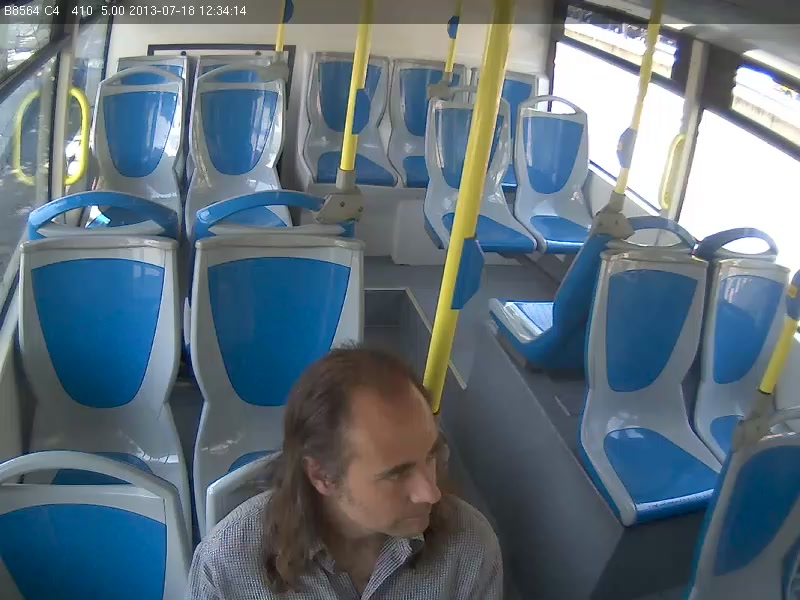Head: (282, 344, 458, 547)
